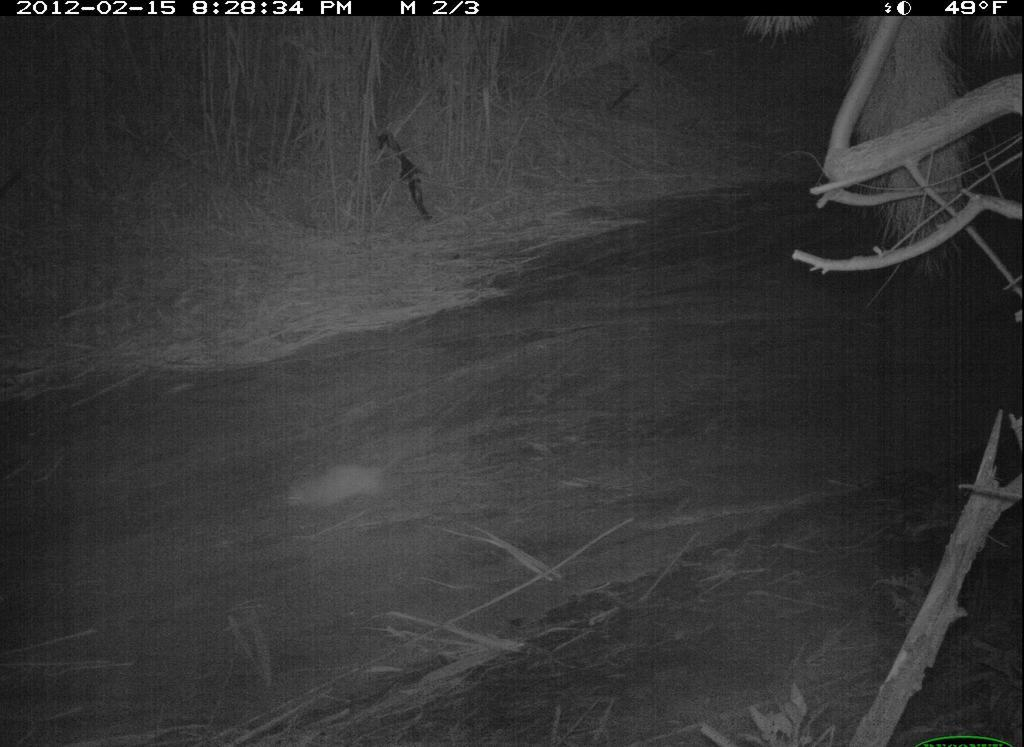opossum: (272, 449, 423, 525)
